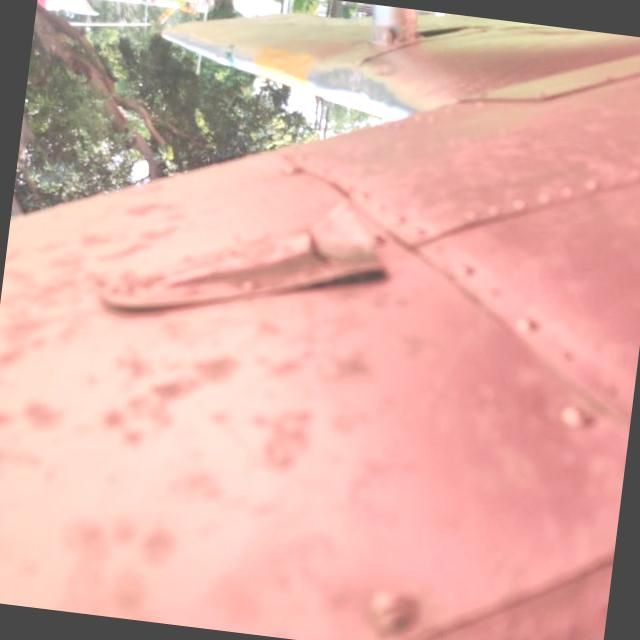crack: (281, 208, 348, 277)
